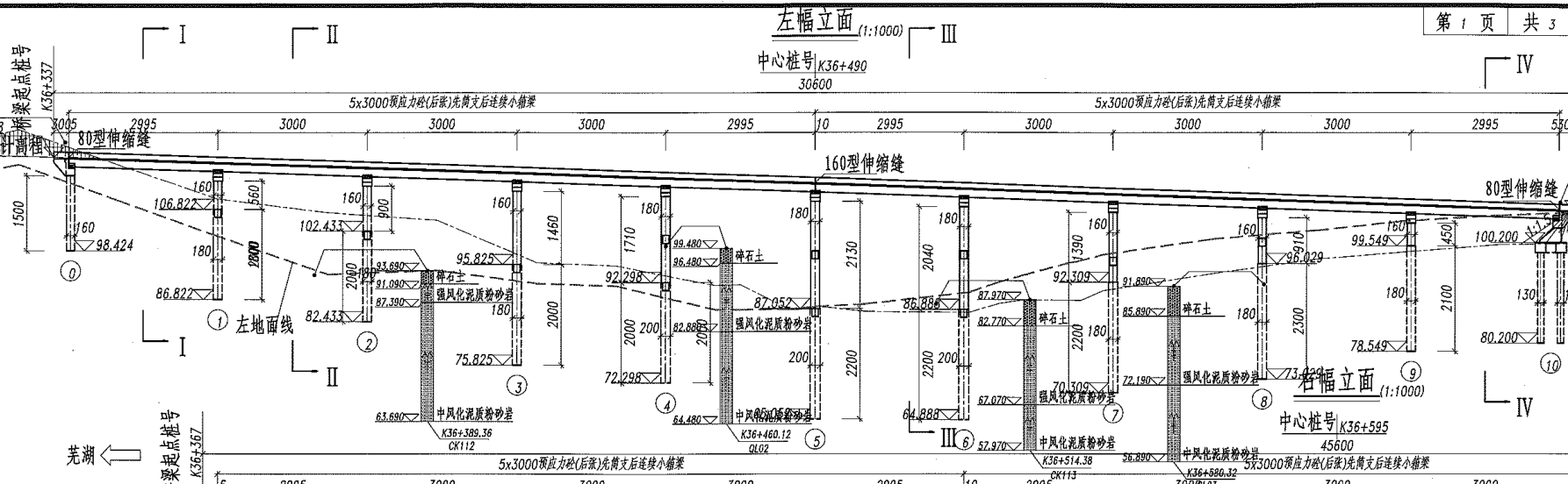C: (890, 189, 984, 453), (747, 185, 835, 453), (595, 181, 683, 417), (1045, 196, 1130, 429), (450, 174, 536, 402), (1466, 218, 1568, 381), (298, 168, 383, 356), (1344, 206, 1429, 387), (149, 163, 236, 335), (1219, 200, 1280, 414)
